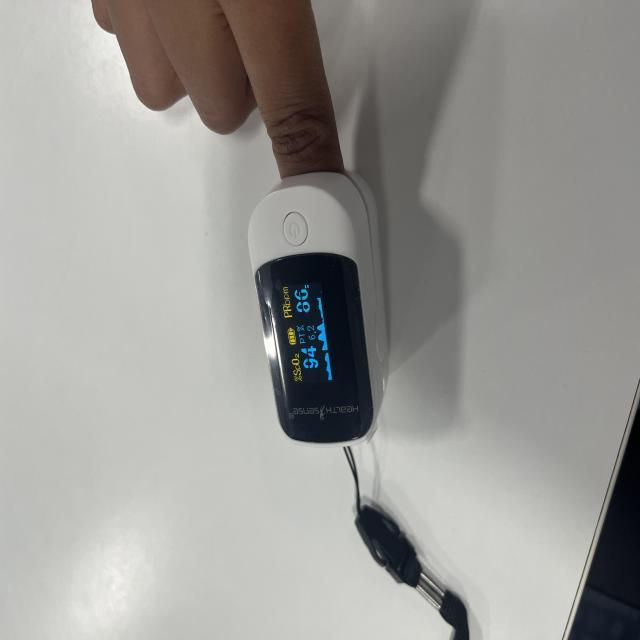spo2: (247, 173, 391, 447)
